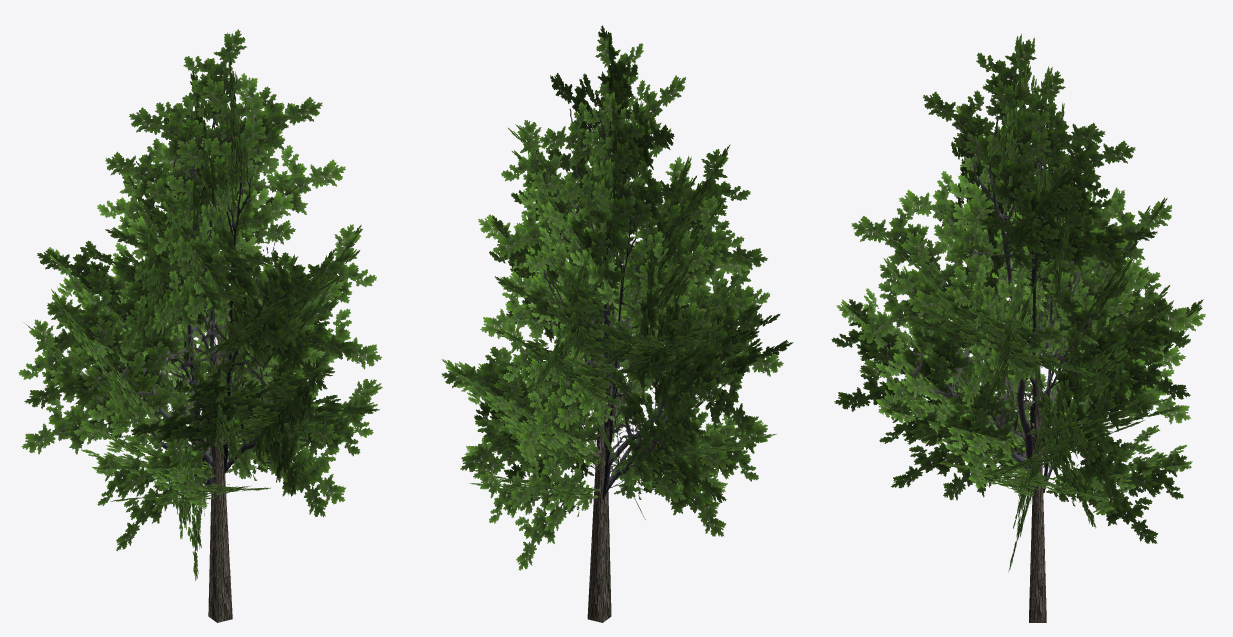
The model's file is oak_Wind.fbx.
The picture shows the model from 3 angles, left to right: view 1: azimuth 30°, elevation 25°; view 2: azimuth 150°, elevation 25°; view 3: azimuth 270°, elevation 25°; orthographic projection.
Visible parts, largest first — view 1: oak-01; view 2: oak-01; view 3: oak-01.
Part boxes in pixels (x1,y1,x2,y2): oak-01: (18,29,382,622); oak-01: (441,25,793,622); oak-01: (831,34,1205,622).
Bounding box in the file's own units: 1003 × 1667 × 981.
Materials: 1 (1 with a texture image).
